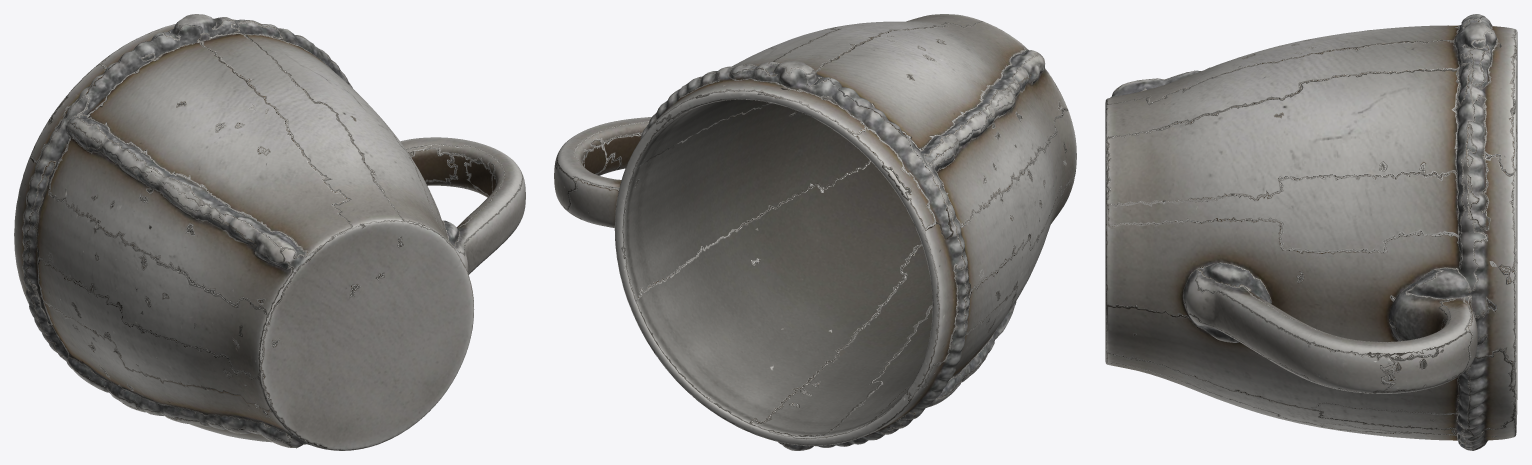
3 renders of one model, left to right at view 1: azimuth 30°, elevation 25°; view 2: azimuth 150°, elevation 25°; view 3: azimuth 270°, elevation 25°, orthographic. The views are drawn at different scales.
Size of the model in its own units: 1.64 by 1.36 by 1.23.
1 material, 1 textured.
